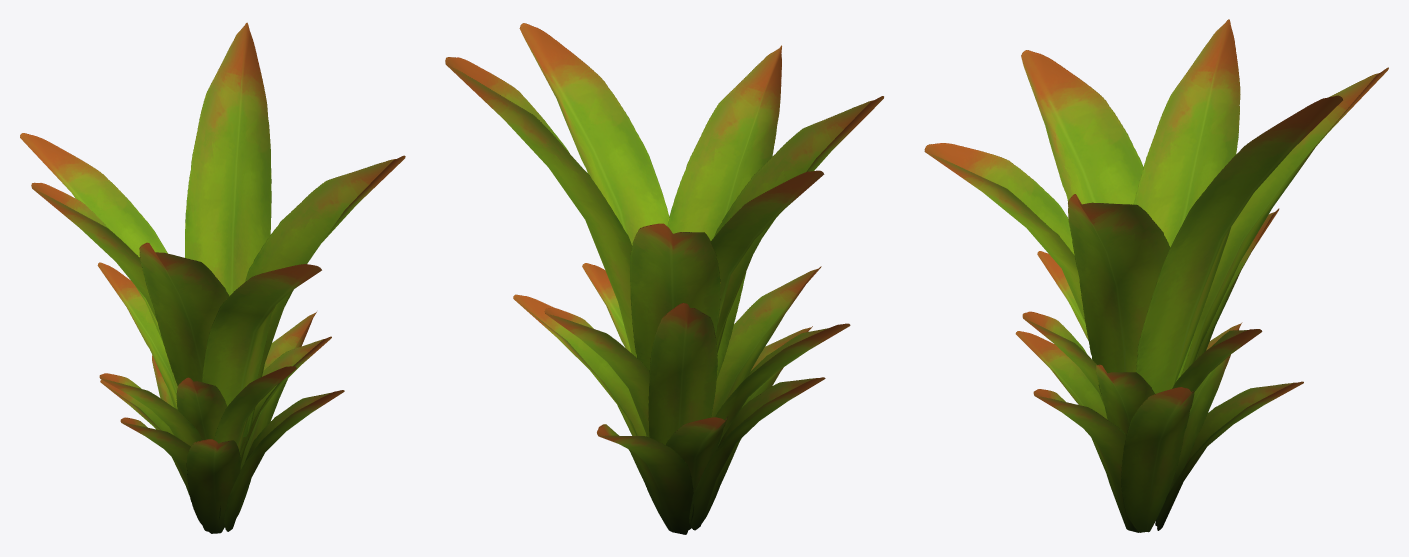
File: Plant_1_Big.gltf
The picture shows the model from 3 angles, left to right: view 1: azimuth 30°, elevation 25°; view 2: azimuth 150°, elevation 25°; view 3: azimuth 270°, elevation 25°; orthographic projection. The views are drawn at different scales.
Parts seen in each view (by area): view 1: Plant_1_Big; view 2: Plant_1_Big; view 3: Plant_1_Big.
Part boxes in pixels (x1,y1,x2,y2): Plant_1_Big: (20, 22, 405, 533); Plant_1_Big: (445, 23, 883, 534); Plant_1_Big: (924, 19, 1388, 532).
Bounding box in the file's own units: 1.81 × 2.35 × 1.95.
Materials: 1 (1 with a texture image).
